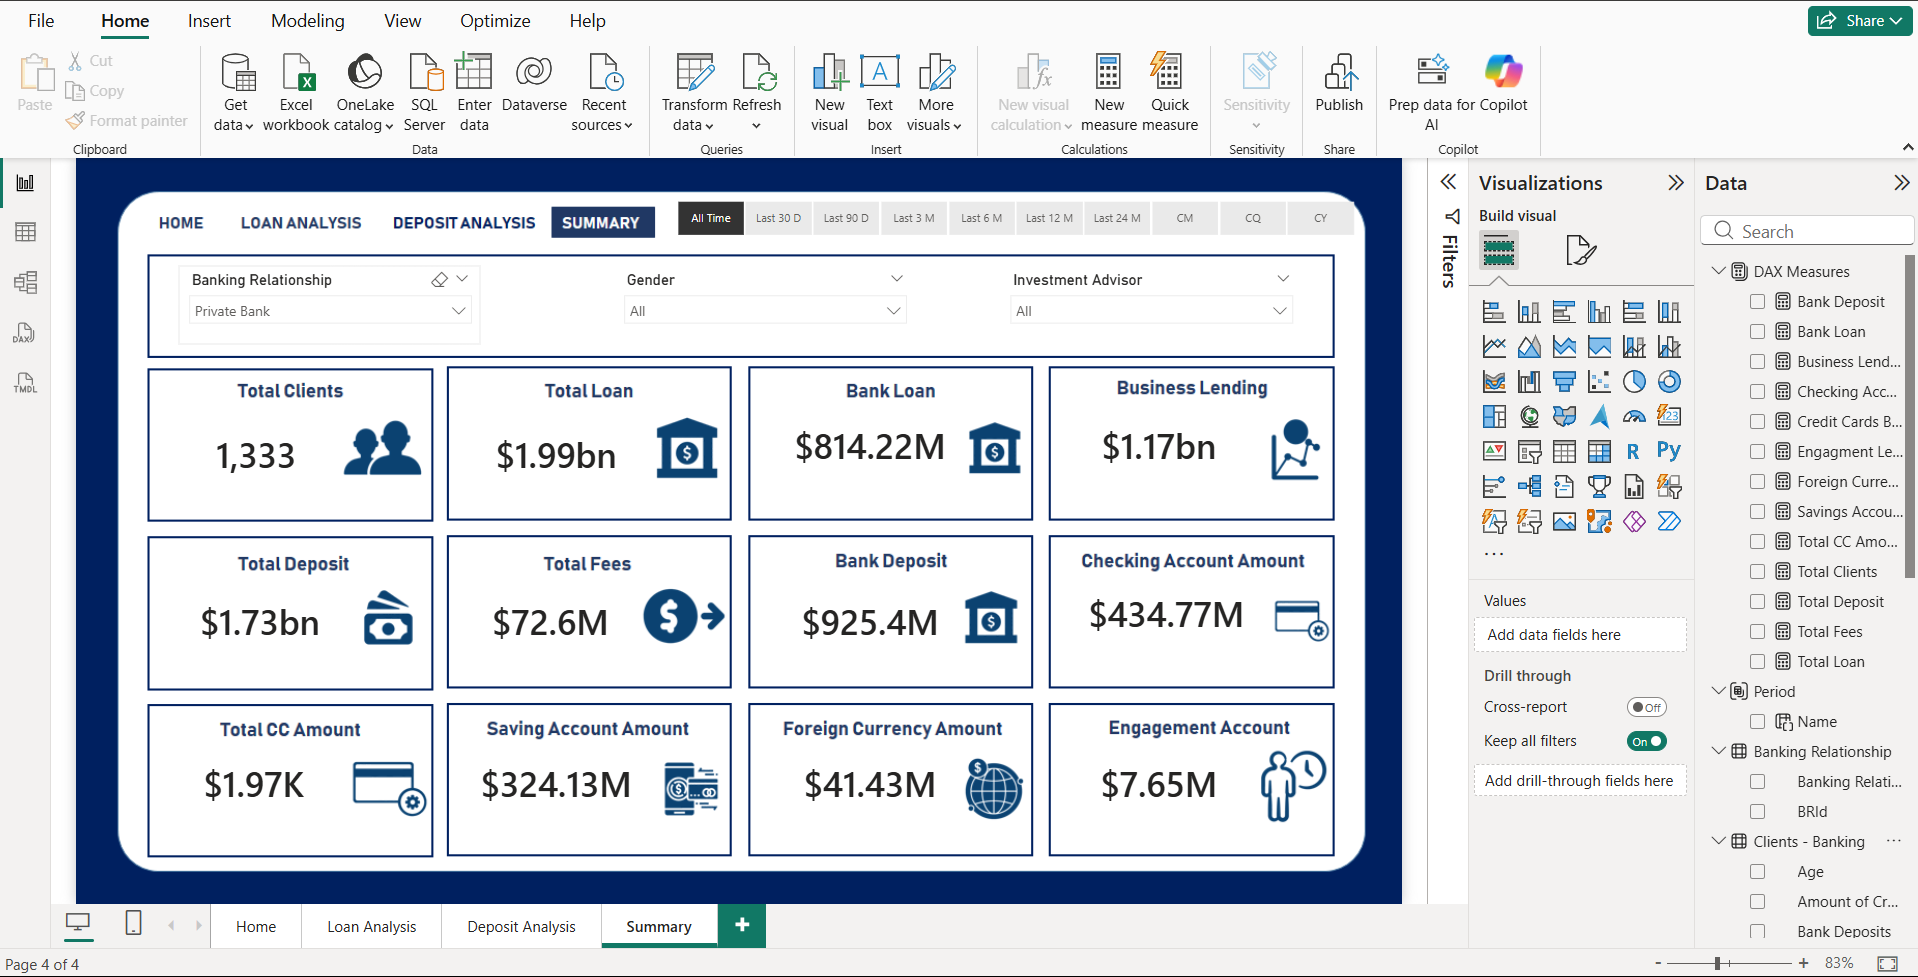

The dashboard page shown, as its layout file describes it:
{"tool":"powerbi","page":{"name":"Summary","canvas":[1280,720],"ordinal":3},"visuals":[{"type":"card","fields":{"Values":["DAX Measures.Engagment Length"]},"box":[946.3,546.4,198.2,114.9],"z":0},{"type":"card","fields":{"Values":["DAX Measures.Foreign Currency Account"]},"box":[667.2,546.4,198.2,114.9],"z":1000},{"type":"card","fields":{"Values":["DAX Measures.Bank Deposit"]},"box":[667.2,390.5,198.2,114.9],"z":2000},{"type":"card","fields":{"Values":["DAX Measures.Checking Accounts"]},"box":[953.4,382.3,198.2,114.9],"z":3000},{"type":"card","fields":{"Values":["DAX Measures.Bank Loan"]},"box":[667.2,220.5,198.2,114.9],"z":4000},{"type":"card","fields":{"Values":["DAX Measures.Business Lending"]},"box":[953.4,220.5,184.1,114.9],"z":5000},{"type":"card","fields":{"Values":["DAX Measures.Savings Account"]},"box":[360,546.4,207.6,114.9],"z":6000},{"type":"card","fields":{"Values":["DAX Measures.Total CC Amount"]},"box":[72.7,546.4,198.2,114.9],"z":7000},{"type":"card","fields":{"Values":["DAX Measures.Total Deposit"]},"box":[78.6,390.5,198.2,114.9],"z":8000},{"type":"card","fields":{"Values":["DAX Measures.Total Fees"]},"box":[365.9,390.5,184.1,114.9],"z":9000},{"type":"card","fields":{"Values":["DAX Measures.Total Clients"]},"box":[75,228.7,198.2,114.9],"z":10000},{"type":"card","fields":{"Values":["DAX Measures.Total Loan"]},"box":[365.9,228.7,195.8,114.9],"z":11000},{"type":"slicer","fields":{"Values":["Banking Relationship.Banking Relationship"]},"box":[98.5,104.3,292.9,75.7],"z":12000},{"type":"slicer","fields":{"Values":["Gender.Gender"]},"box":[518.9,104.3,292.9,75.7],"z":13000},{"type":"slicer","fields":{"Values":["Investment Advisor.Investment Advisor"]},"box":[891.3,104.3,292.9,75.7],"z":14000},{"type":"slicer","fields":{"Values":["Period.Name"]},"box":[555.2,34.6,702.1,46.6],"z":15000},{"type":"actionButton","box":[72.8,44.2,58.5,31],"z":16000},{"type":"actionButton","box":[306.9,44.7,119.4,31],"z":17000},{"type":"actionButton","box":[297.9,44.6,147.8,30.5],"z":18000},{"type":"actionButton","box":[157.1,44.6,125.5,30.5],"z":19000}]}

Visuals, with their boxes on the page's 1280x720 design canvas (x1, y1, x2, y2). These are canvas units, not pixel positions in the 1918x977 screenshot, which may show the page scaled, cropped or inside an application window:
card - DAX Measures.Engagment Length: left=946, top=546, right=1144, bottom=661
card - DAX Measures.Foreign Currency Account: left=667, top=546, right=865, bottom=661
card - DAX Measures.Bank Deposit: left=667, top=390, right=865, bottom=505
card - DAX Measures.Checking Accounts: left=953, top=382, right=1152, bottom=497
card - DAX Measures.Bank Loan: left=667, top=220, right=865, bottom=335
card - DAX Measures.Business Lending: left=953, top=220, right=1138, bottom=335
card - DAX Measures.Savings Account: left=360, top=546, right=568, bottom=661
card - DAX Measures.Total CC Amount: left=73, top=546, right=271, bottom=661
card - DAX Measures.Total Deposit: left=79, top=390, right=277, bottom=505
card - DAX Measures.Total Fees: left=366, top=390, right=550, bottom=505
card - DAX Measures.Total Clients: left=75, top=229, right=273, bottom=344
card - DAX Measures.Total Loan: left=366, top=229, right=562, bottom=344
slicer - Banking Relationship.Banking Relationship: left=98, top=104, right=391, bottom=180
slicer - Gender.Gender: left=519, top=104, right=812, bottom=180
slicer - Investment Advisor.Investment Advisor: left=891, top=104, right=1184, bottom=180
slicer - Period.Name: left=555, top=35, right=1257, bottom=81
actionButton: left=73, top=44, right=131, bottom=75
actionButton: left=307, top=45, right=426, bottom=76
actionButton: left=298, top=45, right=446, bottom=75
actionButton: left=157, top=45, right=283, bottom=75
